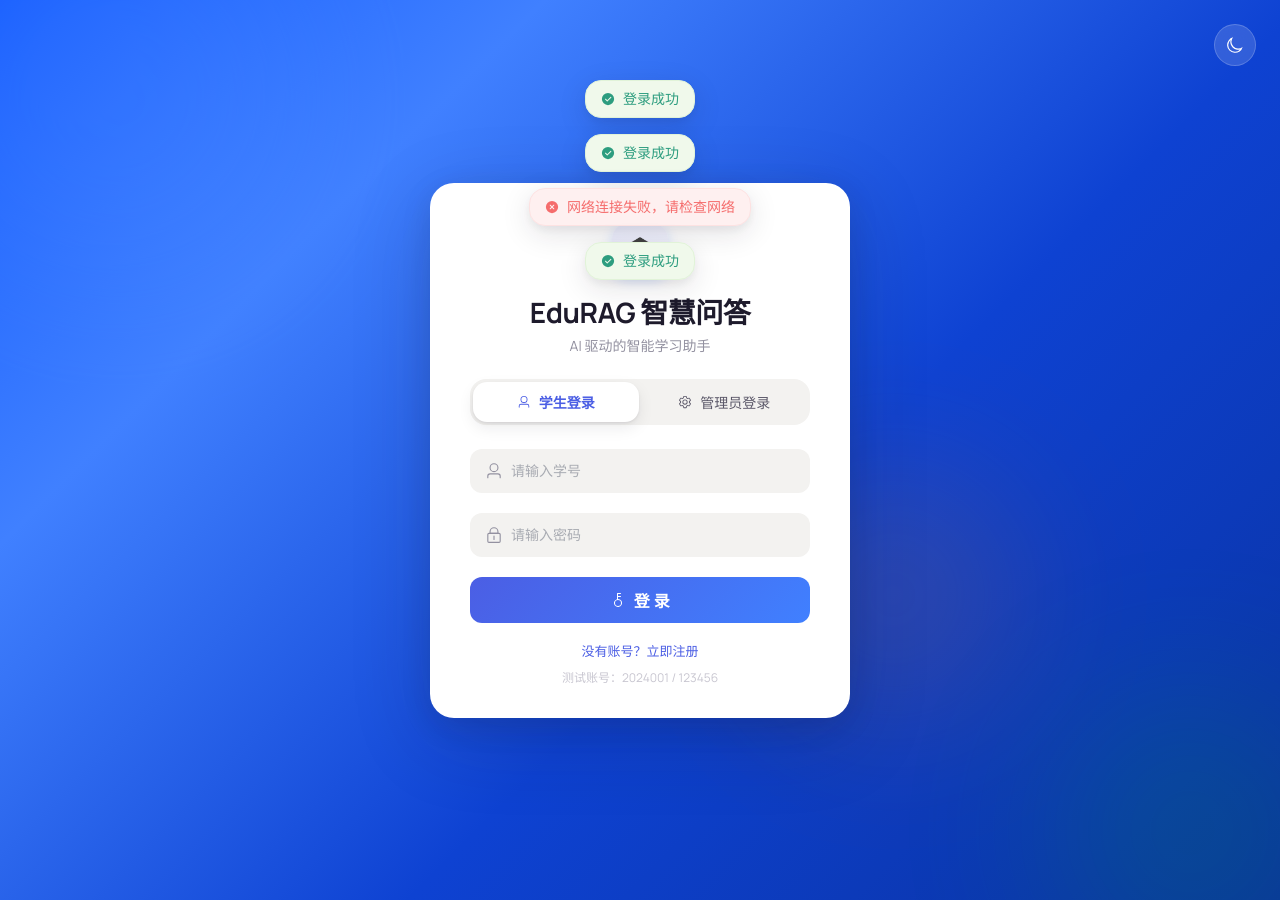
Test: Login.vue › 点击注册链接打开注册弹窗
Click the link with class "footer-link": (640, 650) [582,640,698,660]
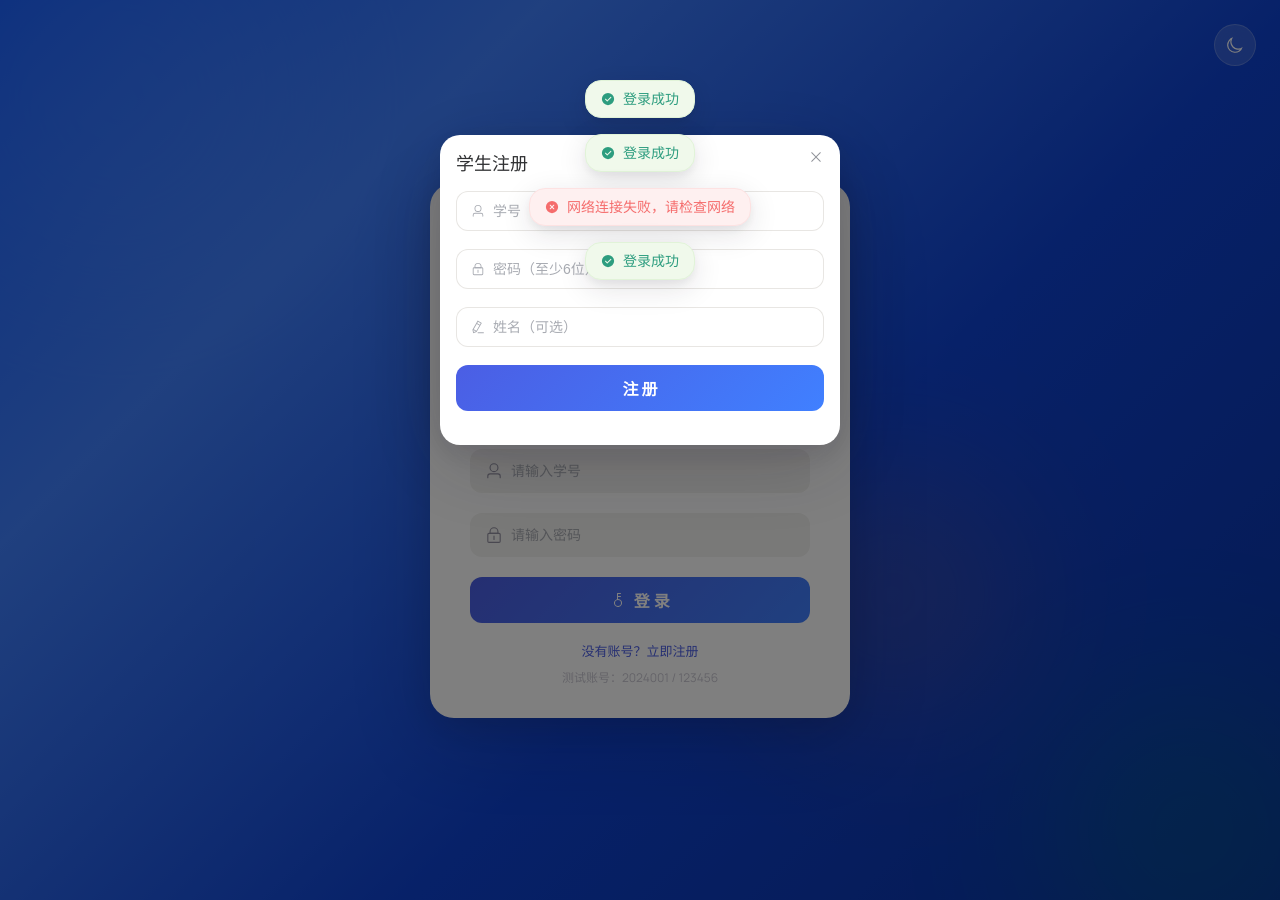
Expected: the element showing "学生注册 注 册" is shown, [440,135,840,445]
